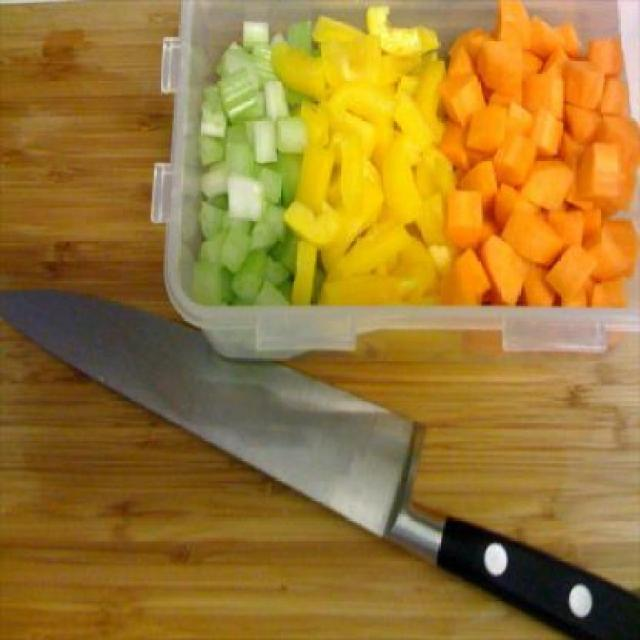Carrot: (438, 0, 639, 309), (476, 230, 532, 308)
